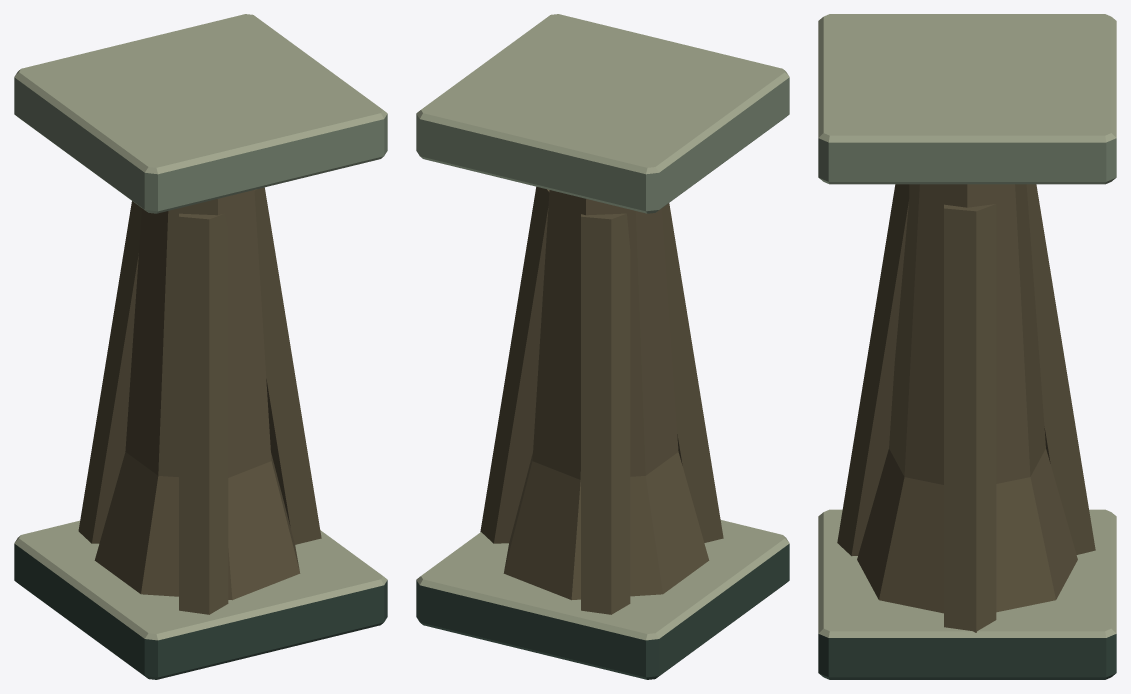
The model's file is pillar-small.glb.
The picture shows the model from 3 angles, left to right: view 1: azimuth 30°, elevation 25°; view 2: azimuth 150°, elevation 25°; view 3: azimuth 270°, elevation 25°; orthographic projection. The views are drawn at different scales.
Parts seen in each view (by area): view 1: pillar-small__body; view 2: pillar-small__body; view 3: pillar-small__body.
Part boxes in pixels (x1,y1,x2,y2): pillar-small__body: [14, 14, 387, 679]; pillar-small__body: [416, 14, 789, 679]; pillar-small__body: [818, 14, 1116, 679].
Bounding box in the file's own units: 0.72 × 1.45 × 0.72.
